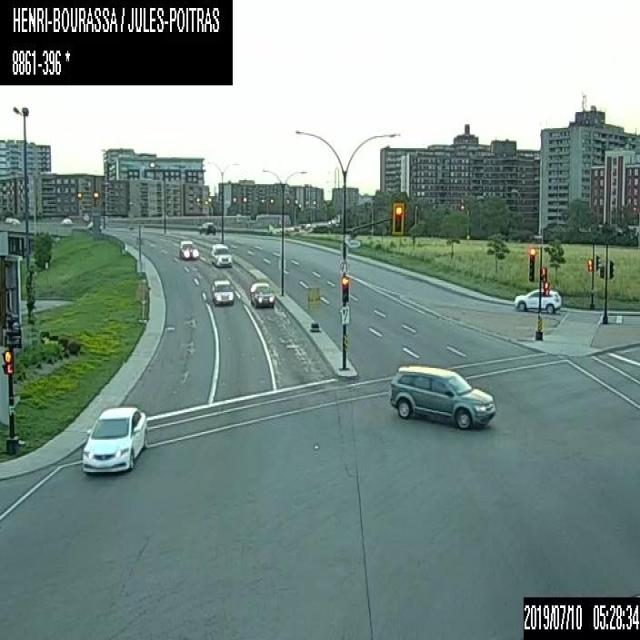vehicle: (388, 362, 496, 429), (80, 403, 147, 473), (514, 287, 560, 313), (248, 279, 274, 309), (209, 278, 234, 306), (209, 241, 232, 267), (177, 238, 198, 258), (198, 218, 215, 234), (60, 217, 72, 224)
